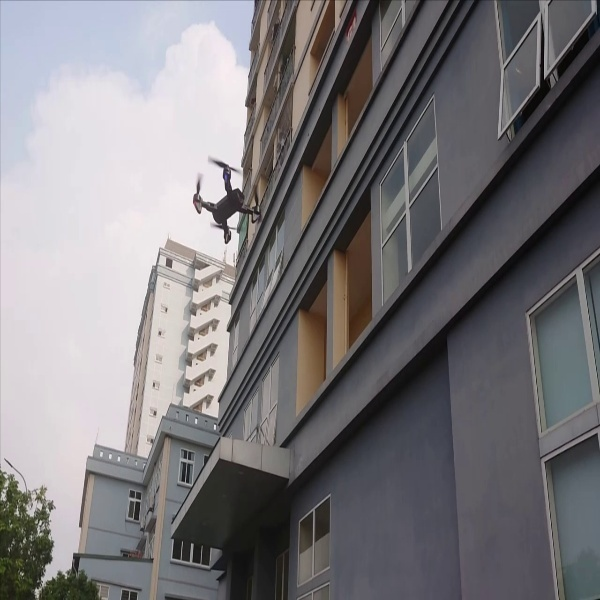drone: (186, 157, 270, 245)
